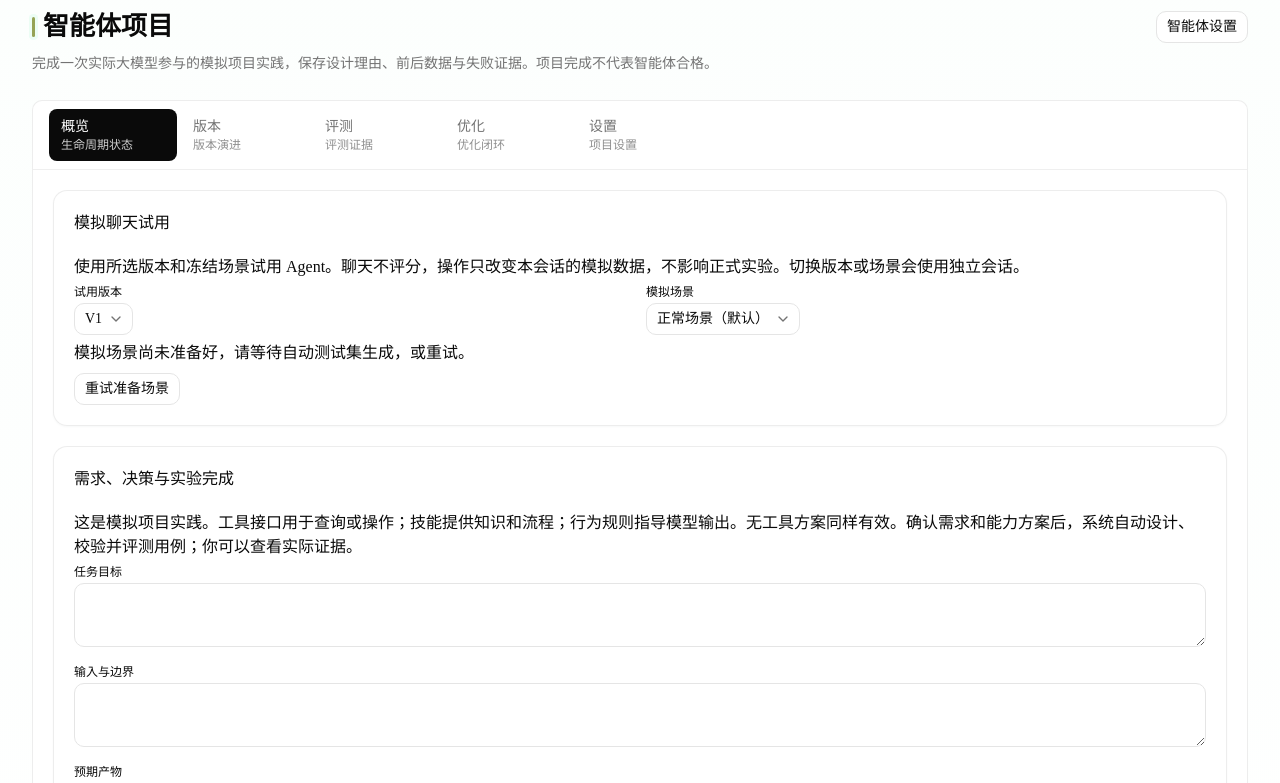
Scenario: keeps infrastructure-only analysis visible and disables optimization
The width and height of the screenshot is (1280, 783).
Step 1. Click the button "评测 评测证据" → x=377, y=134, box [313,108,441,160]
(page scrolled)
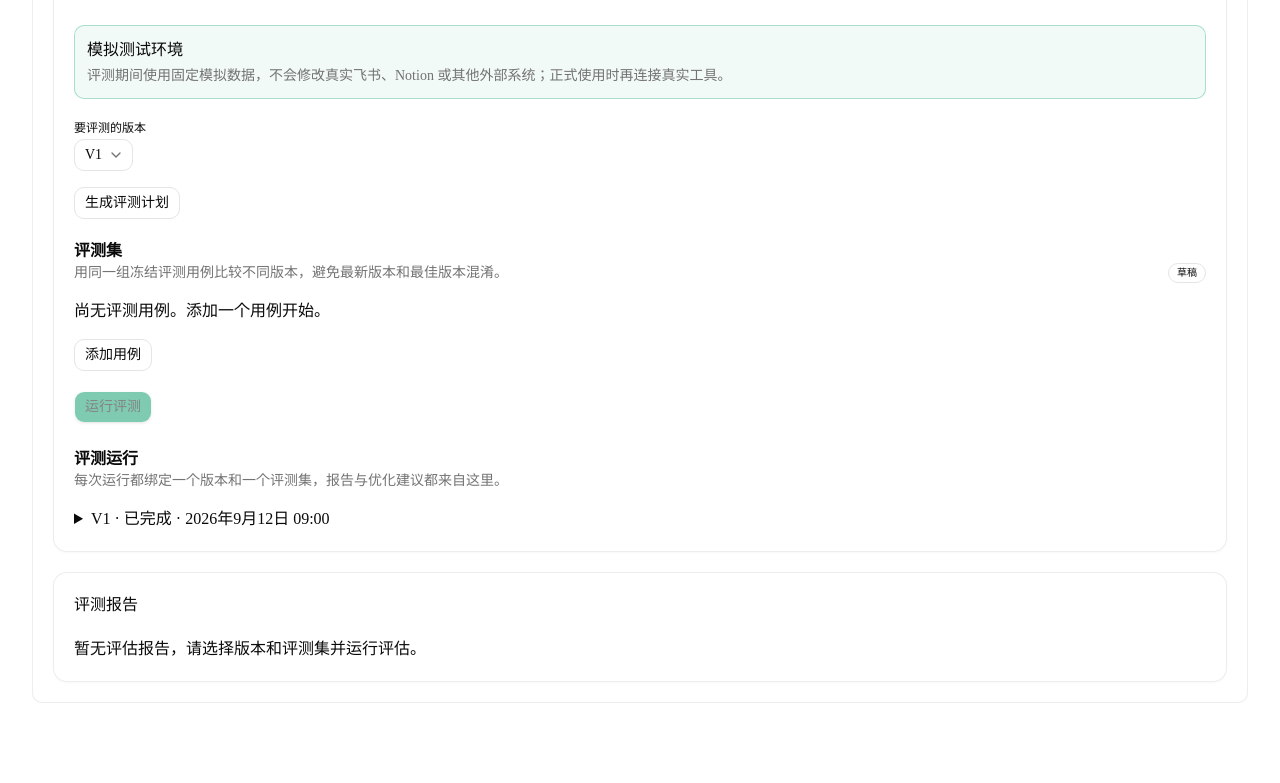
Step 2. Click the heading "V1 · 已完成 · 2026年9月12日 09:00" → x=210, y=518, box [91,510,330,526]
(page scrolled)
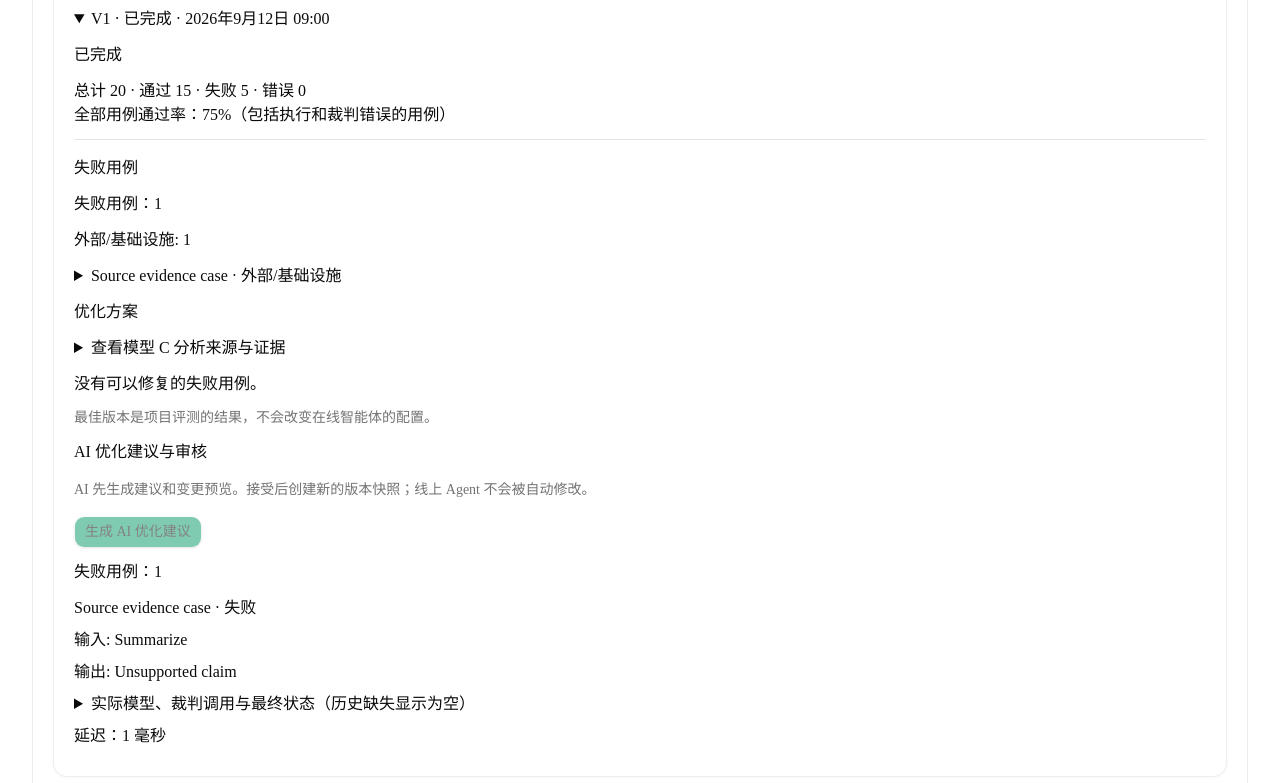
Check: the button "生成 AI 优化建议" is disabled, box [74,516,202,548]
Check: the text "没有可以修复的失败用例。" is shown, box [74,374,266,392]
